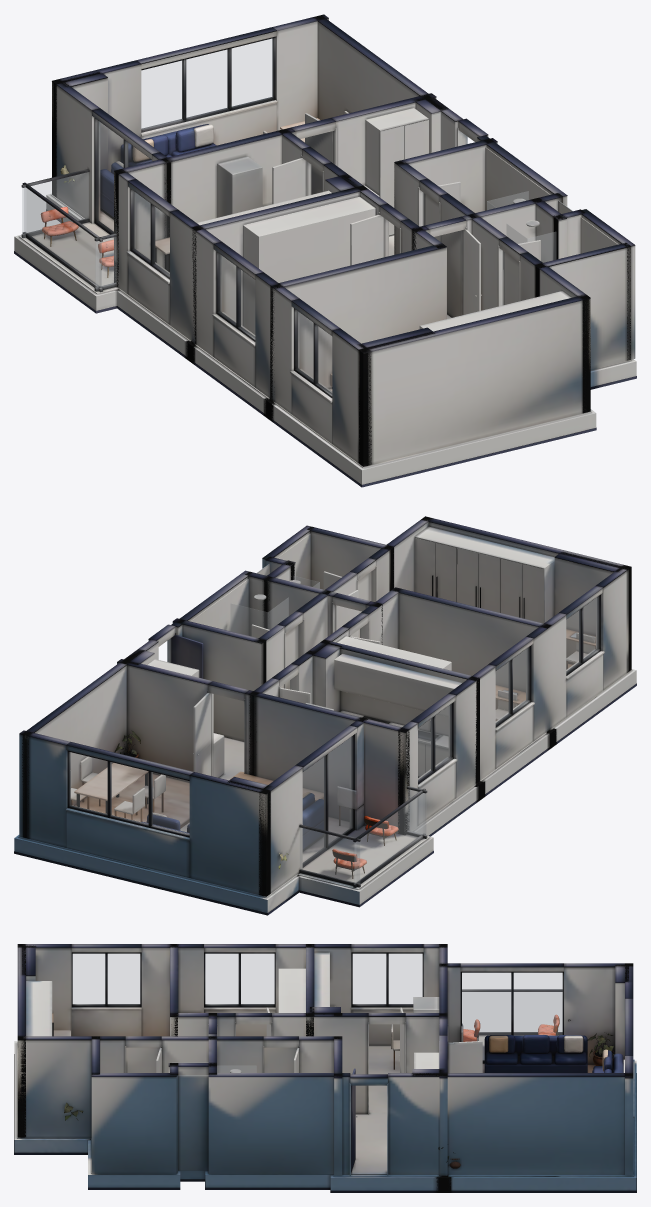
3 views of the same model, one above another, from view 1: azimuth 30°, elevation 25°; view 2: azimuth 150°, elevation 25°; view 3: azimuth 270°, elevation 25° (orthographic). The views are drawn at different scales.
Visible parts, largest first — view 1: plan, glass0_m, railg2_m, railg0_m, glass1_m, glass2_m, glass3_m, glass4_m, railg1_m; view 2: plan, glass0_m, glass1_m, railg2_m, railg0_m, glass2_m, glass4_m, glass3_m, sg.001_m, railg1_m; view 3: plan, glass1_m, railg2_m, glass3_m, glass2_m, glass4_m.
Part boxes in pixels (x1,y1,x2,y2): plan: (14,14,636,487); glass0_m: (141,38,273,129); railg2_m: (24,188,101,288); railg0_m: (22,172,88,234); glass1_m: (97,120,151,232); glass2_m: (133,191,169,275); glass3_m: (218,253,254,337); glass4_m: (296,310,331,393); railg1_m: (95,237,116,287); plan: (14,516,636,915); glass0_m: (70,752,189,834); glass1_m: (303,736,352,863); railg2_m: (354,793,424,884); railg0_m: (300,828,359,883); glass2_m: (418,704,451,780); glass4_m: (566,596,598,672); glass3_m: (496,648,528,723); sg.001_m: (230,603,267,635); railg1_m: (407,789,426,835); plan: (14,944,636,1192); glass1_m: (462,973,562,1060); railg2_m: (462,992,561,1031); glass3_m: (205,954,274,1004); glass2_m: (353,954,422,1004); glass4_m: (73,954,139,1004).
Size of the model in its own units: 7.21 by 2.62 by 13.03.
Materials: 2 (1 with a texture image).
